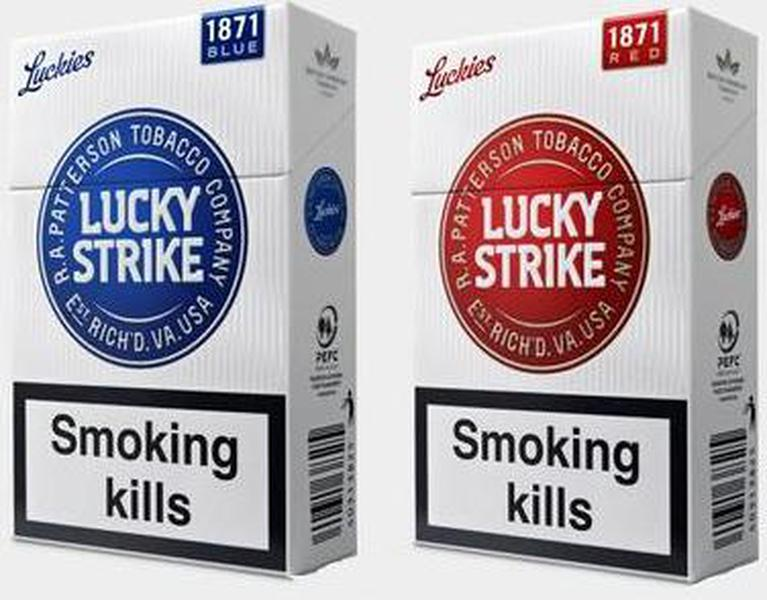lucky_strike_blue: (10, 23, 287, 540)
lucky_strike_red: (416, 34, 693, 541)
